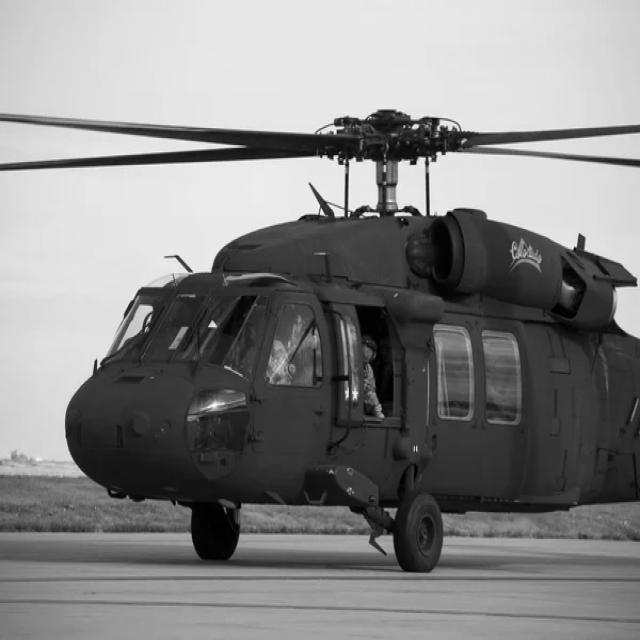Helicopter: (0, 110, 640, 572)
